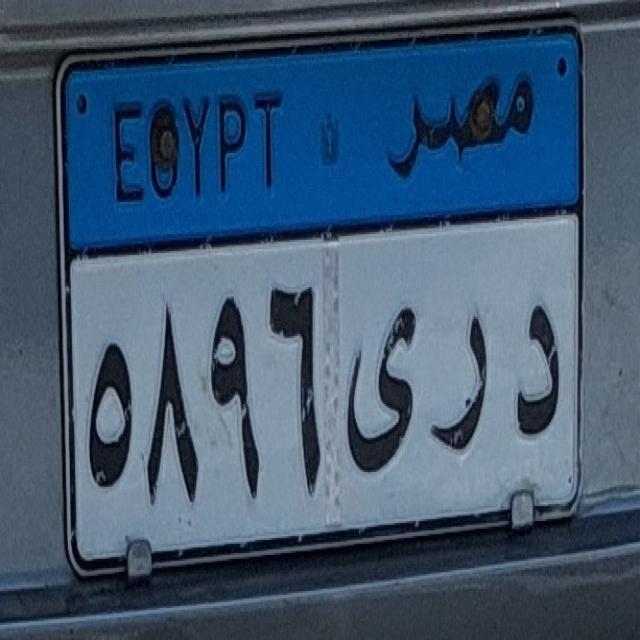5: (78, 331, 144, 497)
6: (262, 270, 332, 504)
8: (138, 289, 218, 531)
9: (200, 287, 276, 509)
R: (426, 298, 498, 464)
Yeeh: (337, 289, 428, 489)
daal: (502, 288, 572, 456)
